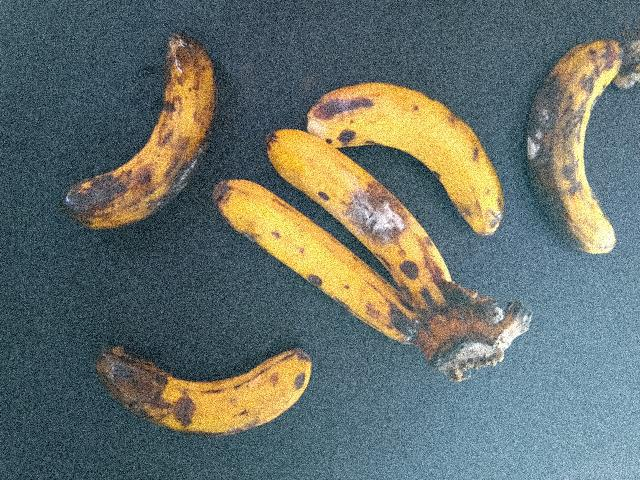ripe: (209, 175, 413, 350), (305, 71, 520, 236)
rotten: (41, 10, 222, 239), (77, 338, 331, 474), (510, 28, 639, 273)
